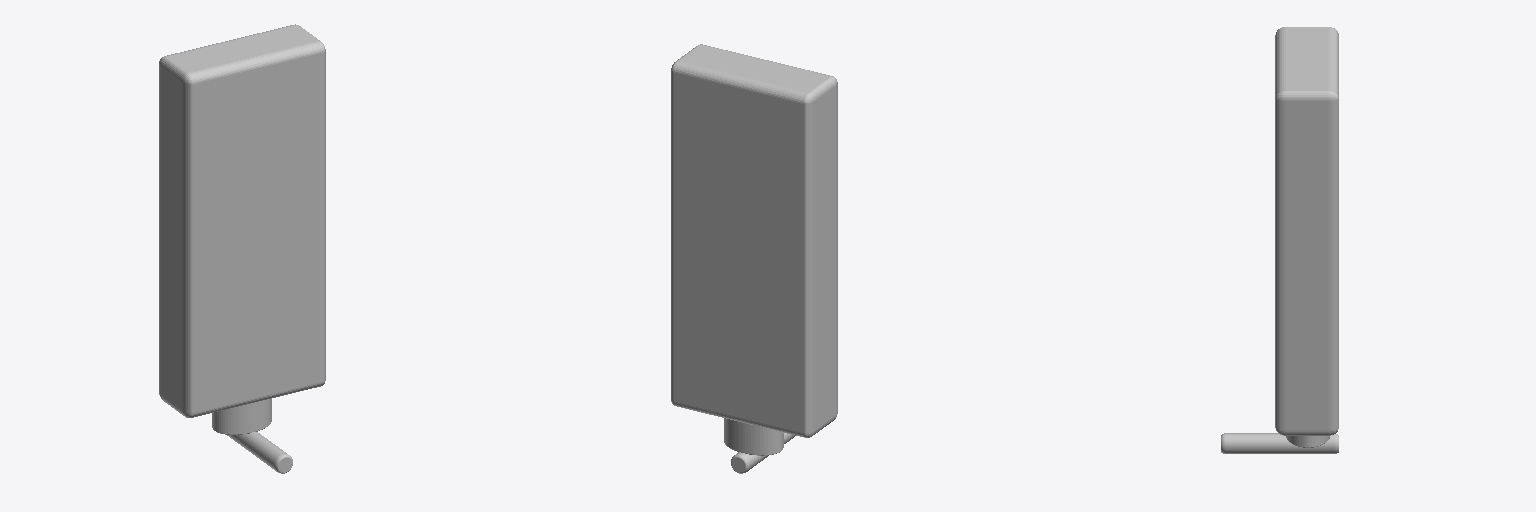
Rendered from hand_body.obj.
The picture shows the model from 3 angles: view 1: azimuth 30°, elevation 25°; view 2: azimuth 150°, elevation 25°; view 3: azimuth 270°, elevation 25°; orthographic projection.
Visible parts, largest first — view 1: 002_Box, 001_Cylinder_1, 000_Cylinder; view 2: 002_Box, 001_Cylinder_1, 000_Cylinder; view 3: 002_Box, 000_Cylinder.
Boxes of the visible parts, x1,y1,x2,y2 form: 002_Box: [159, 24, 325, 417]; 001_Cylinder_1: [212, 398, 271, 434]; 000_Cylinder: [227, 432, 292, 473]; 002_Box: [671, 44, 837, 437]; 001_Cylinder_1: [724, 418, 783, 455]; 000_Cylinder: [731, 433, 795, 473]; 002_Box: [1275, 27, 1338, 435]; 000_Cylinder: [1221, 433, 1338, 453].
Bounding box in the file's own units: 90 × 240 × 65.